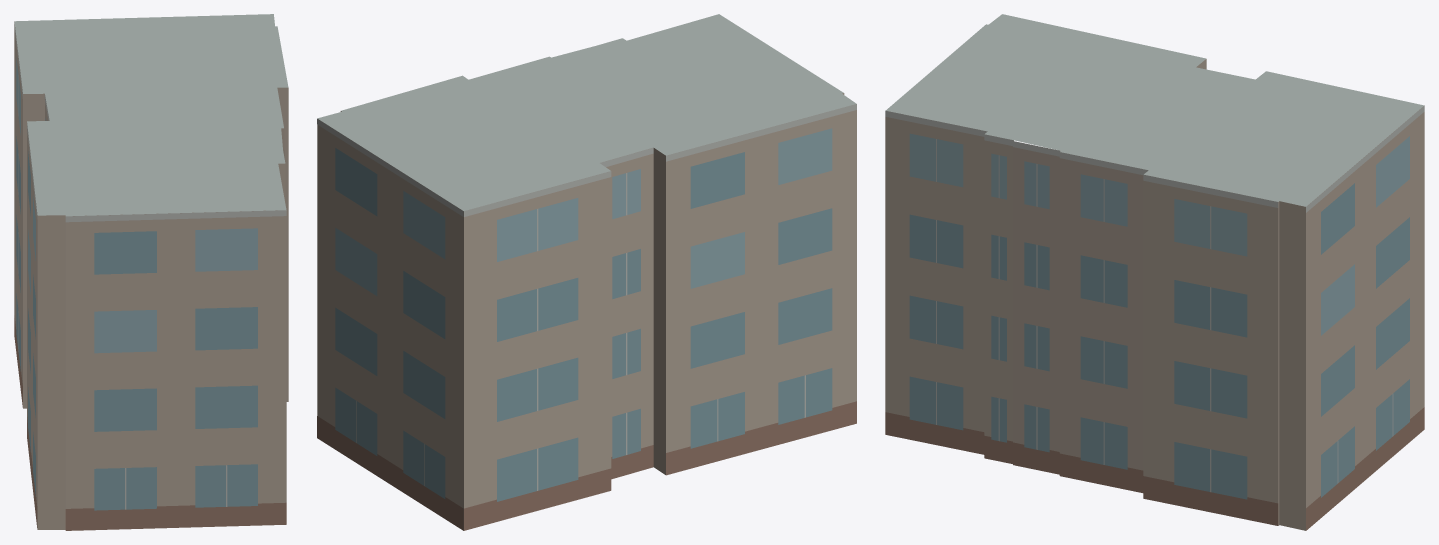
The model's file is survey-upis-33031469.glb.
The picture shows the model from 3 angles, left to right: view 1: azimuth 30°, elevation 25°; view 2: azimuth 150°, elevation 25°; view 3: azimuth 270°, elevation 25°; orthographic projection. The views are drawn at different scales.
Visible parts, largest first — view 1: survey-upis-33031469.tmp; view 2: survey-upis-33031469.tmp; view 3: survey-upis-33031469.tmp.
Part boxes in pixels (x1,y1,x2,y2): survey-upis-33031469.tmp: [14, 14, 288, 530]; survey-upis-33031469.tmp: [317, 14, 856, 530]; survey-upis-33031469.tmp: [885, 14, 1424, 530].
Bounding box in the file's own units: 16.53 × 12.94 × 19.52.
